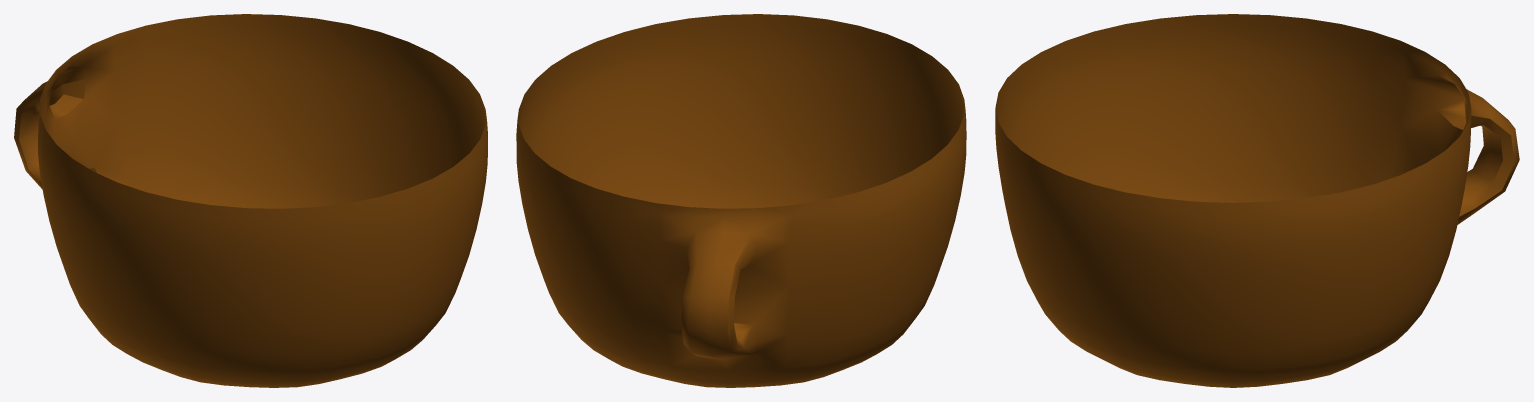
The model's file is tea_cup_low_poly.glb.
3 renders of one model, left to right at view 1: azimuth 30°, elevation 25°; view 2: azimuth 150°, elevation 25°; view 3: azimuth 270°, elevation 25°, orthographic.
Visible parts, largest first — view 1: Object_2; view 2: Object_2; view 3: Object_2.
Part boxes in pixels (x1,y1,x2,y2): Object_2: (14,14,487,387); Object_2: (516,14,966,387); Object_2: (995,14,1519,387).
Bounding box in the file's own units: 136 × 77.87 × 157.
